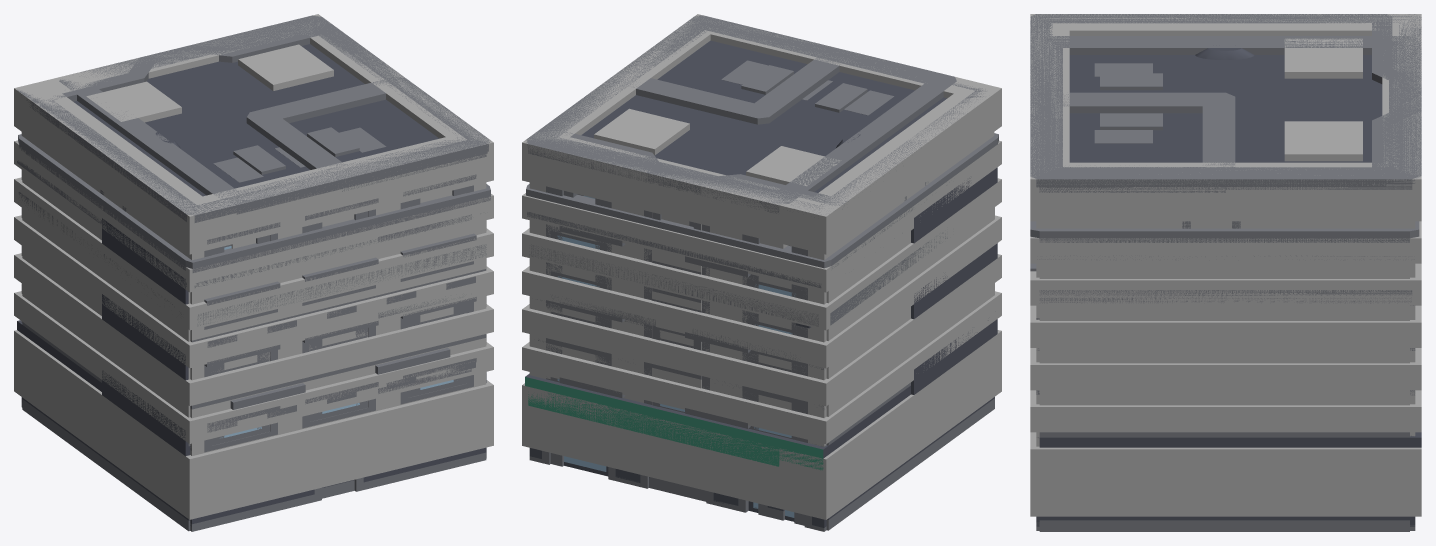
File: buildings.glb
The picture shows the model from 3 angles, left to right: view 1: azimuth 30°, elevation 25°; view 2: azimuth 150°, elevation 25°; view 3: azimuth 270°, elevation 25°; orthographic projection. The views are drawn at different scales.
Visible parts, largest first — view 1: B_low1_wall, B_large4_rest, B_sky1_rest, B_large1_rest, B_large5_rest, B_large4_wall, B_small1_rest, B_large5_wall, B_sky2_rest, B_sky2_wall; view 2: B_low1_wall, B_large1_rest, B_sky1_rest, B_large5_rest, B_small1_rest, B_large4_rest, B_large5_wall, B_sky1_wall, B_sky2_wall, B_sky2_rest, B_large4_wall; view 3: B_low1_wall, B_sky1_rest, B_large5_wall, B_large1_rest, B_large5_rest, B_large4_rest, B_small1_rest, B_sky1_wall, B_large4_wall.
Boxes of the visible parts, x1,y1,x2,y2 form: B_low1_wall: (14, 14, 493, 519); B_large4_rest: (29, 25, 490, 531); B_sky1_rest: (17, 15, 466, 531); B_large1_rest: (59, 15, 488, 456); B_large5_rest: (17, 132, 490, 531); B_large4_wall: (34, 141, 486, 455); B_small1_rest: (18, 77, 489, 409); B_large5_wall: (22, 170, 486, 417); B_sky2_rest: (17, 114, 480, 530); B_sky2_wall: (21, 170, 453, 455); B_low1_wall: (522, 14, 1001, 519); B_large1_rest: (526, 15, 997, 520); B_sky1_rest: (526, 15, 946, 531); B_large5_rest: (525, 131, 998, 530); B_small1_rest: (529, 18, 947, 525); B_large4_rest: (538, 15, 986, 406); B_large5_wall: (826, 207, 994, 416); B_sky1_wall: (529, 152, 967, 446); B_sky2_wall: (529, 220, 826, 445); B_sky2_rest: (527, 114, 902, 531); B_large4_wall: (652, 132, 994, 404); B_low1_wall: (1030, 14, 1421, 516); B_sky1_rest: (1030, 14, 1421, 530); B_large5_wall: (1039, 263, 1409, 405); B_large1_rest: (1030, 36, 1421, 189); B_large5_rest: (1030, 48, 1421, 531); B_large4_rest: (1030, 14, 1421, 530); B_small1_rest: (1030, 92, 1412, 303); B_sky1_wall: (1036, 221, 1415, 444); B_large4_wall: (1036, 221, 1386, 446).
Size of the model in its own units: 1 by 1 by 1.
